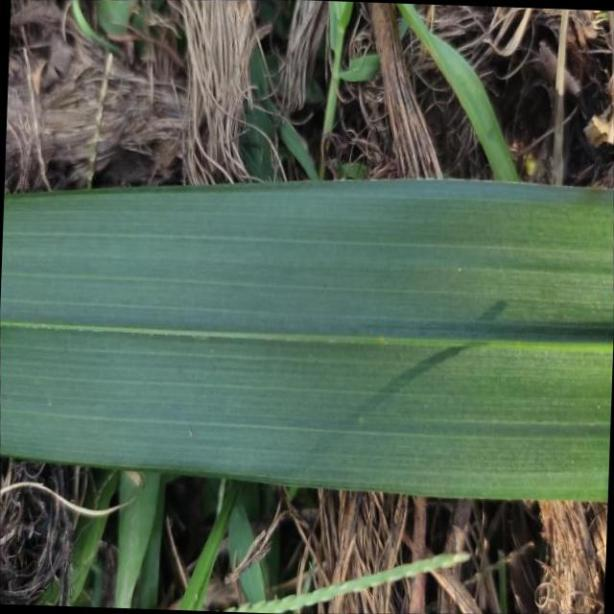Healthy: (1, 182, 614, 503)
